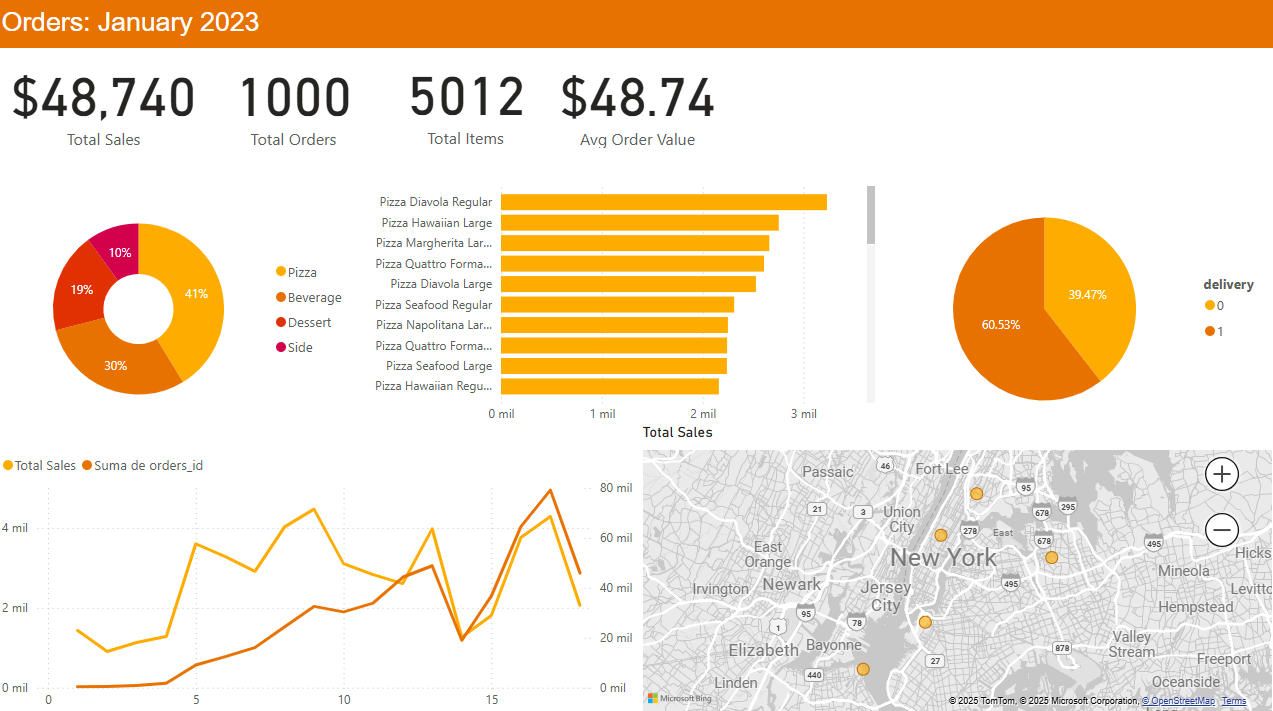

This screenshot's page, from the dashboard's own definition file:
{"tool":"powerbi","page":{"name":"Sales","canvas":[1280,720],"ordinal":0},"visuals":[{"type":"card","fields":{"Values":["Max(Part 1.orders_id)"]},"box":[213.2,49.5,166.9,105.5],"z":0},{"type":"card","fields":{"Values":["Part 1.Total Sales"]},"box":[0,49.5,213.2,105.5],"z":1000},{"type":"card","fields":{"Values":["Sum(Part 1.quantity)"]},"box":[374.6,48.4,187.3,105.5],"z":2000},{"type":"card","fields":{"Values":["Part 1.Avg Order Value"]},"box":[552.3,49.5,176.6,105.5],"z":3000},{"type":"donutChart","fields":{"Category":["Part 1.item_category"],"Y":["CountNonNull(Part 1.item_category)"]},"box":[0,175.5,359.6,271.3],"z":4000},{"type":"barChart","fields":{"Category":["Part 1.item_name"],"Y":["Part 1.Total Sales"]},"box":[359.6,175.5,523.2,271.3],"z":5000},{"type":"lineChart","fields":{"Y":["Part 1.Total Sales"],"Category":["Part 1.created_date.Variación.Jerarquía de fechas.Día"],"Y2":["Sum(Part 1.orders_id)"]},"box":[0,446.8,640.5,273.4],"z":6000},{"type":"pieChart","fields":{"Y":["Sum(Part 1.orders_id)"],"Series":["Part 1.delivery"]},"box":[882.8,175.5,397.2,271.3],"z":7000},{"type":"textbox","box":[0,0,1280,50],"z":8000},{"type":"map","fields":{"Category":["Part 1.delivery_city"]},"box":[640.5,446.8,639.5,273.4],"z":9000}]}

Visuals, with their boxes in screenshot pixels (x1, y1, x2, y2), scaled from the page's 1280x720 canvas onto the 1273x711 screenshot:
card - Max(Part 1.orders_id): select_region(212, 49, 378, 153)
card - Part 1.Total Sales: select_region(0, 49, 212, 153)
card - Sum(Part 1.quantity): select_region(373, 48, 559, 152)
card - Part 1.Avg Order Value: select_region(549, 49, 725, 153)
donutChart - Part 1.item_category x CountNonNull(Part 1.item_category): select_region(0, 173, 358, 441)
barChart - Part 1.item_name x Part 1.Total Sales: select_region(358, 173, 878, 441)
lineChart - Part 1.Total Sales x Part 1.created_date.Variación.Jerarquía de fechas.Día: select_region(0, 441, 637, 710)
pieChart - Sum(Part 1.orders_id) x Part 1.delivery: select_region(878, 173, 1272, 441)
textbox: select_region(0, 0, 1272, 49)
map - Part 1.delivery_city: select_region(637, 441, 1272, 710)
